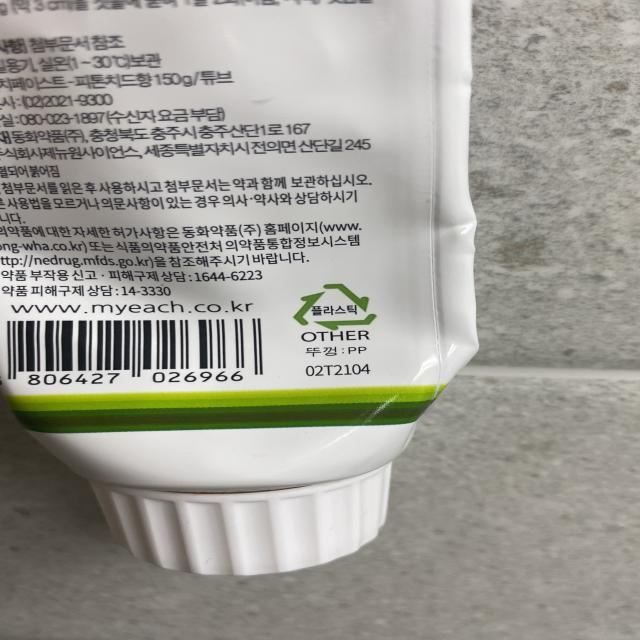Plastic: (283, 281, 382, 335)
